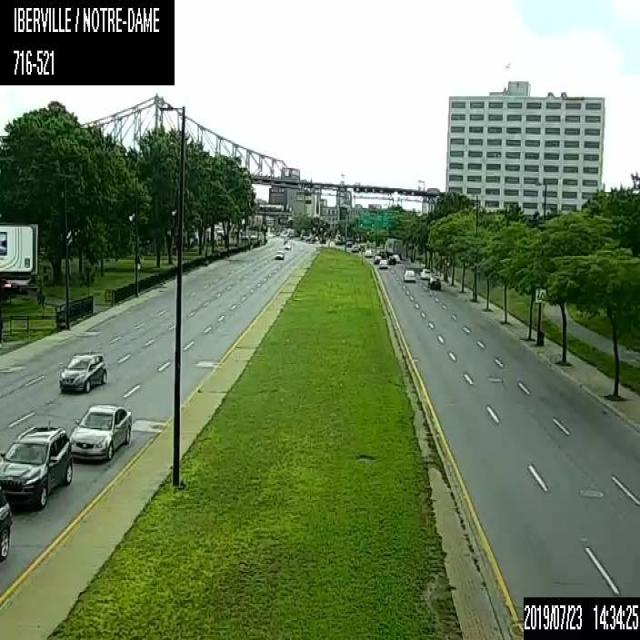vehicle: (0, 424, 72, 511), (68, 402, 132, 461), (58, 351, 108, 392), (0, 487, 11, 560), (427, 274, 440, 289), (402, 268, 414, 280), (420, 267, 431, 278), (274, 249, 284, 259), (378, 258, 387, 268), (350, 243, 358, 252), (373, 254, 381, 263), (387, 255, 395, 264), (364, 248, 372, 256), (392, 253, 399, 262), (284, 241, 290, 249)
